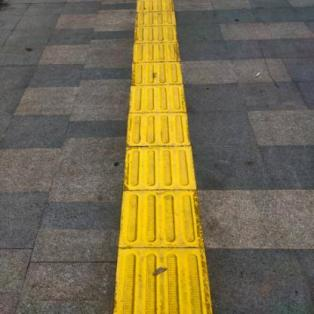Podoctatil: (115, 0, 210, 314)
